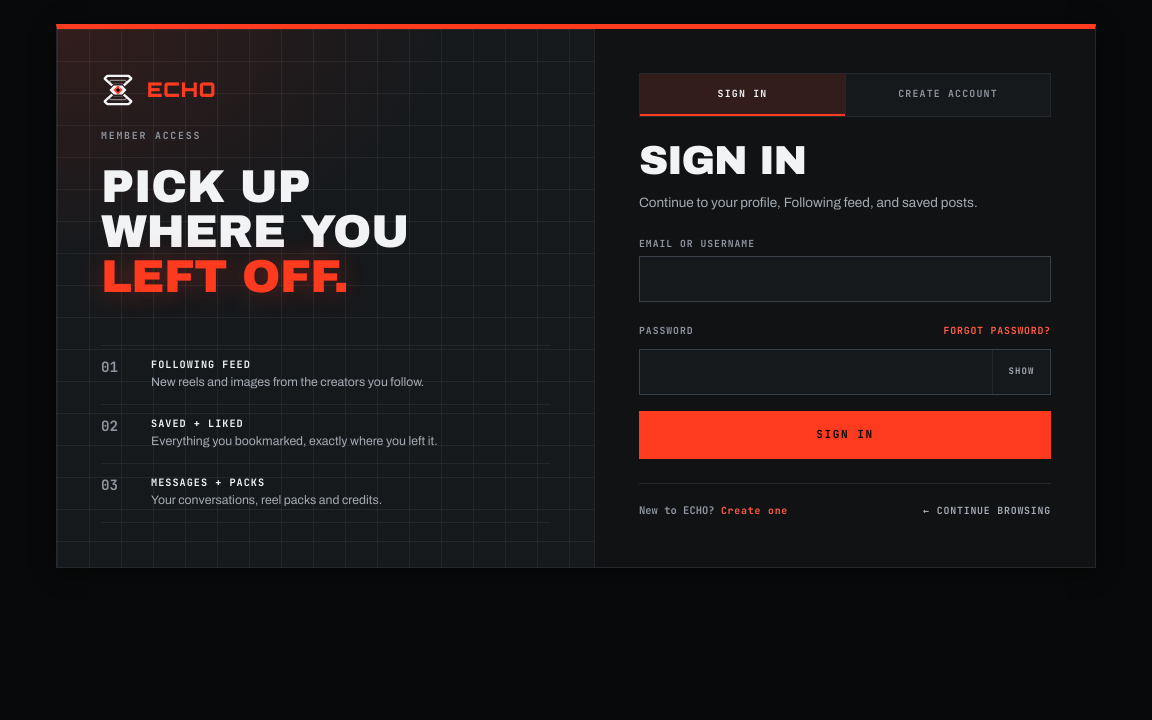
AuthPage — sign in › shows a rejected sign-in as an alert, clears the password and refocuses it
Type "maker" into the field labelled "EMAIL OR USERNAME". click: (845, 279)
box: [640,257,1050,301]
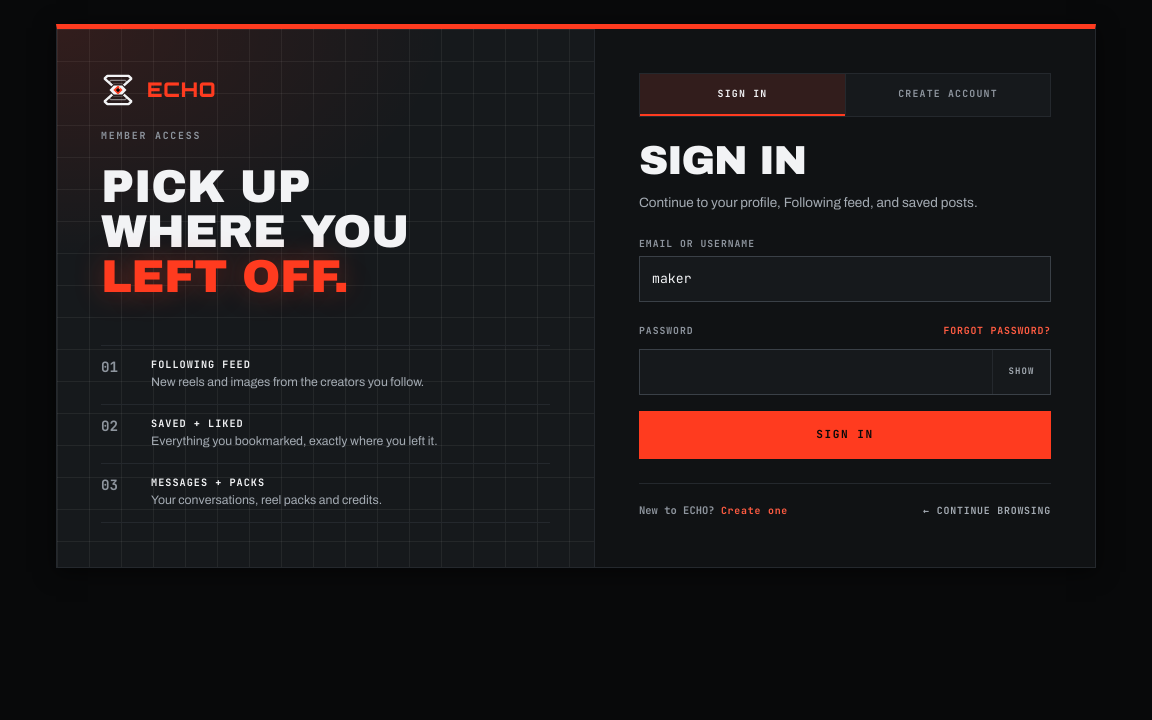
Type "wrong password" into the password field labelled "PASSWORD". click: (816, 372)
box: [640,350,992,394]
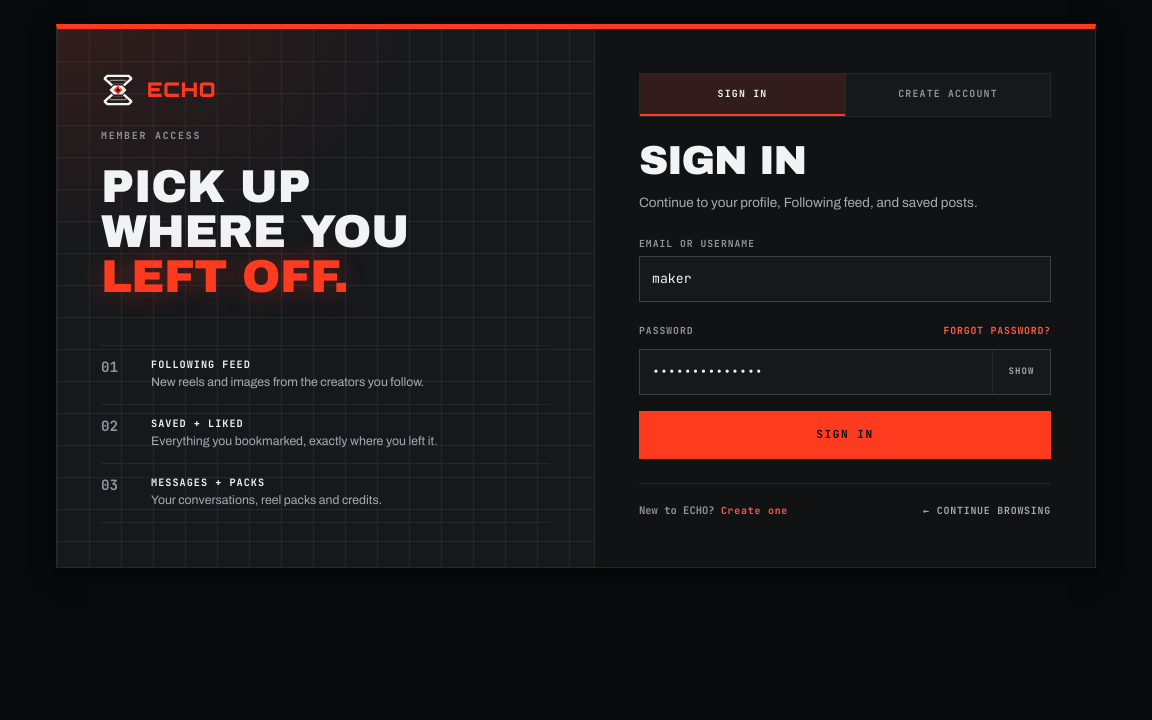
Click the button "SIGN IN". click: (845, 435)
box: [639,411,1051,459]
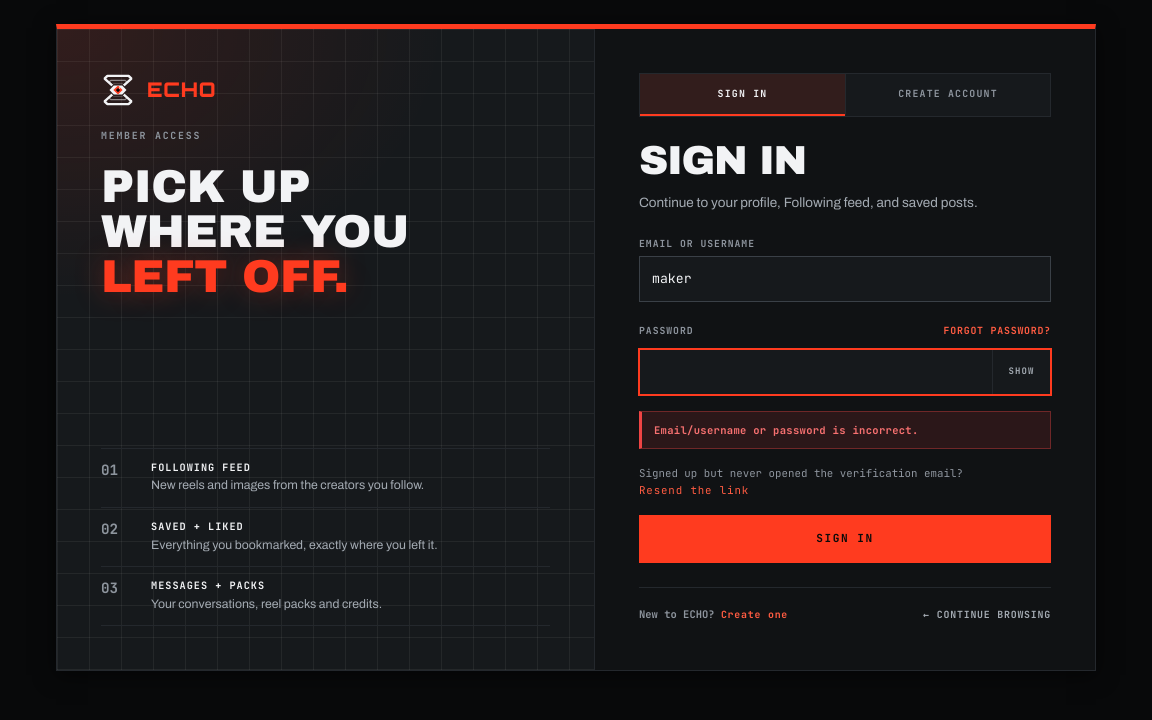
Check: the button "SIGN IN" is enabled, box [639,515,1051,563]
Check: the message reads "Email/username or password is incorrect.", box [654,423,919,437]
Check: the password field labelled "PASSWORD" is empty, box [640,350,992,394]
